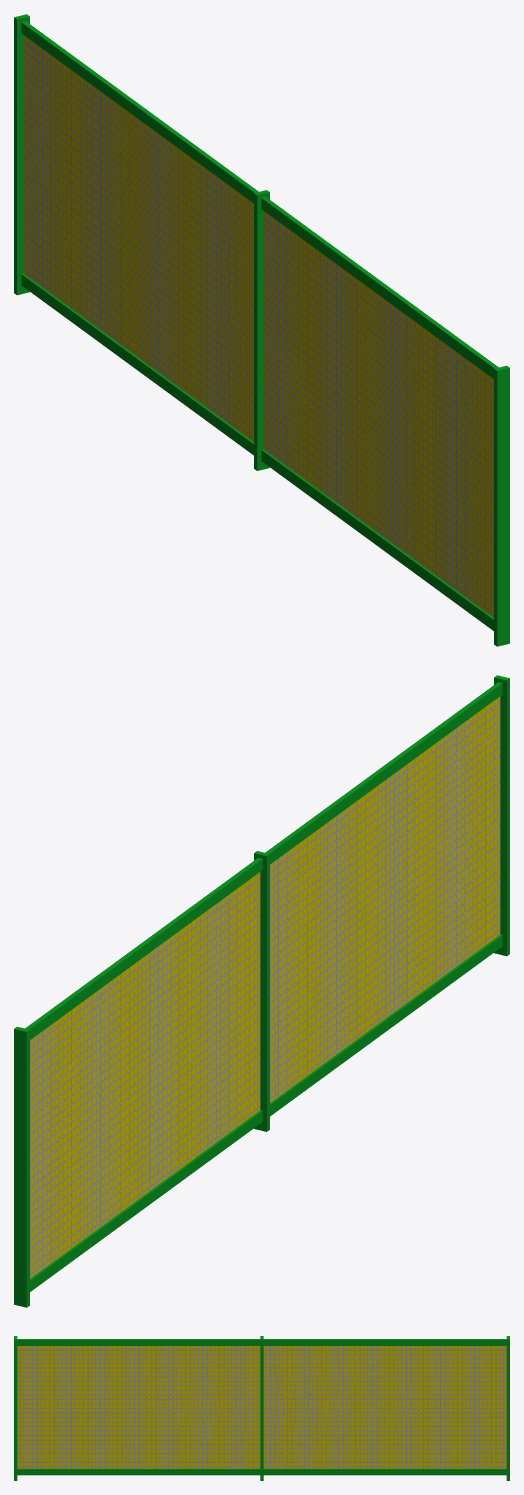
File: fence.fbx
3 views of the same model, one above another, from view 1: azimuth 30°, elevation 25°; view 2: azimuth 150°, elevation 25°; view 3: azimuth 270°, elevation 25° (orthographic). The views are drawn at different scales.
Parts seen in each view (by area): view 1: mqo_mesh; view 2: mqo_mesh; view 3: mqo_mesh.
Boxes of the visible parts, x1,y1,x2,y2 form: mqo_mesh: [14, 14, 509, 646]; mqo_mesh: [14, 675, 509, 1307]; mqo_mesh: [14, 1336, 509, 1480].
Size of the model in its own units: 12.3 by 253 by 805.
